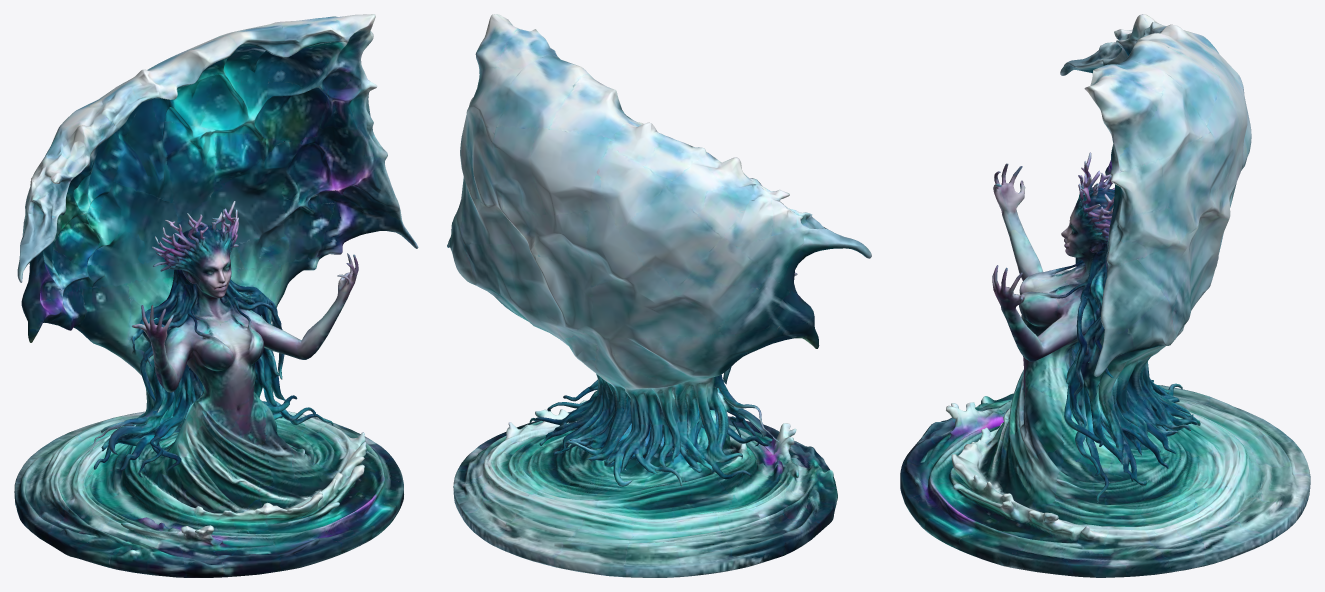
The model's file is mini_tcc10.glb.
3 views of the same model, side by side, from view 1: azimuth 30°, elevation 25°; view 2: azimuth 150°, elevation 25°; view 3: azimuth 270°, elevation 25° (orthographic). The views are drawn at different scales.
Size of the model in its own units: 1.83 by 1.9 by 1.46.
1 material, 1 textured.
